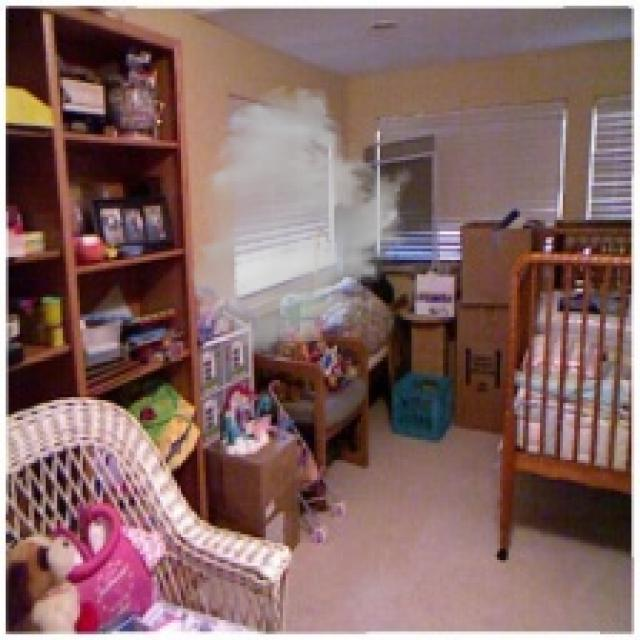smoke: (189, 83, 414, 357)
